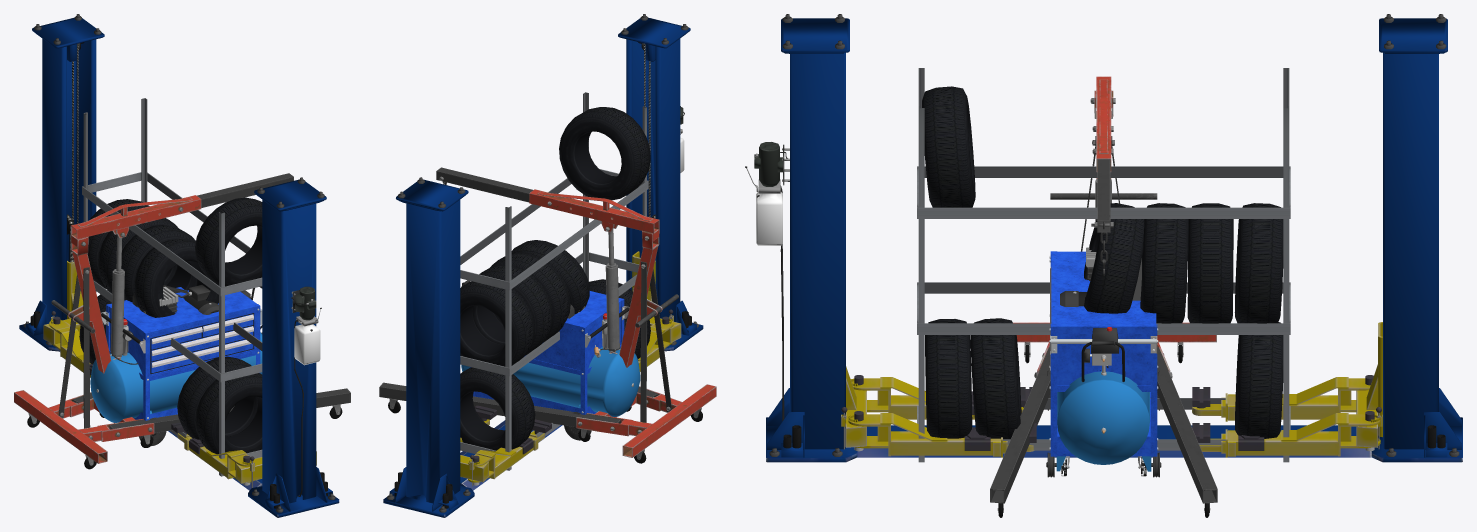
Rendered from chrome.glb.
The picture shows the model from 3 angles, left to right: view 1: azimuth 30°, elevation 25°; view 2: azimuth 150°, elevation 25°; view 3: azimuth 270°, elevation 25°; orthographic projection. The views are drawn at different scales.
Visible parts, largest first — view 1: cw_lift, cw_tires, cw_hoist, cw_cart, cw_air; view 2: cw_lift, cw_tires, cw_hoist, cw_air, cw_cart; view 3: cw_lift, cw_tires, cw_hoist, cw_cart, cw_air.
Part boxes in pixels (bbox=[...]): cw_lift: bbox=[19, 14, 339, 517]; cw_tires: bbox=[79, 98, 262, 476]; cw_hoist: bbox=[14, 173, 350, 469]; cw_cart: bbox=[101, 287, 262, 420]; cw_air: bbox=[90, 285, 262, 445]; cw_lift: bbox=[383, 14, 703, 517]; cw_tires: bbox=[460, 92, 650, 470]; cw_hoist: bbox=[379, 167, 716, 463]; cw_air: bbox=[461, 280, 640, 440]; cw_cart: bbox=[470, 291, 629, 414]; cw_lift: bbox=[745, 14, 1462, 462]; cw_tires: bbox=[917, 68, 1290, 462]; cw_hoist: bbox=[990, 76, 1217, 517]; cw_cart: bbox=[1049, 251, 1158, 476]; cw_air: bbox=[1046, 247, 1161, 477].
Size of the model in its own units: 2.23 by 2.57 by 4.05.
13 materials, 10 textured.
